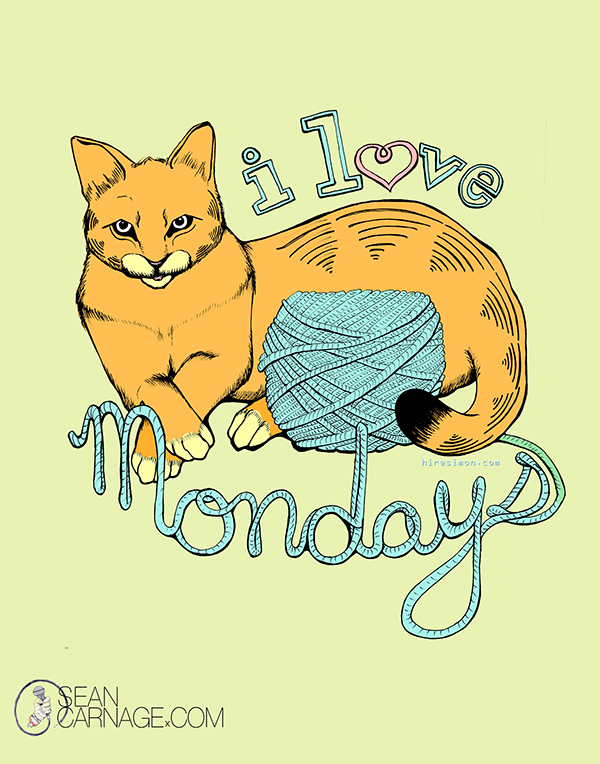cat: (42, 123, 530, 473)
